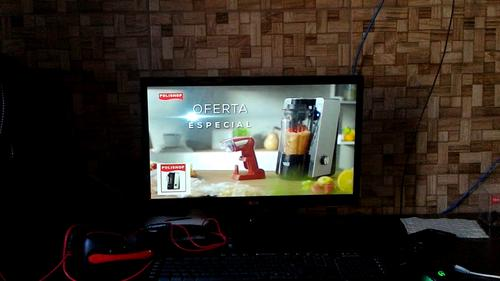Polishop #1: (157, 162, 191, 195)
